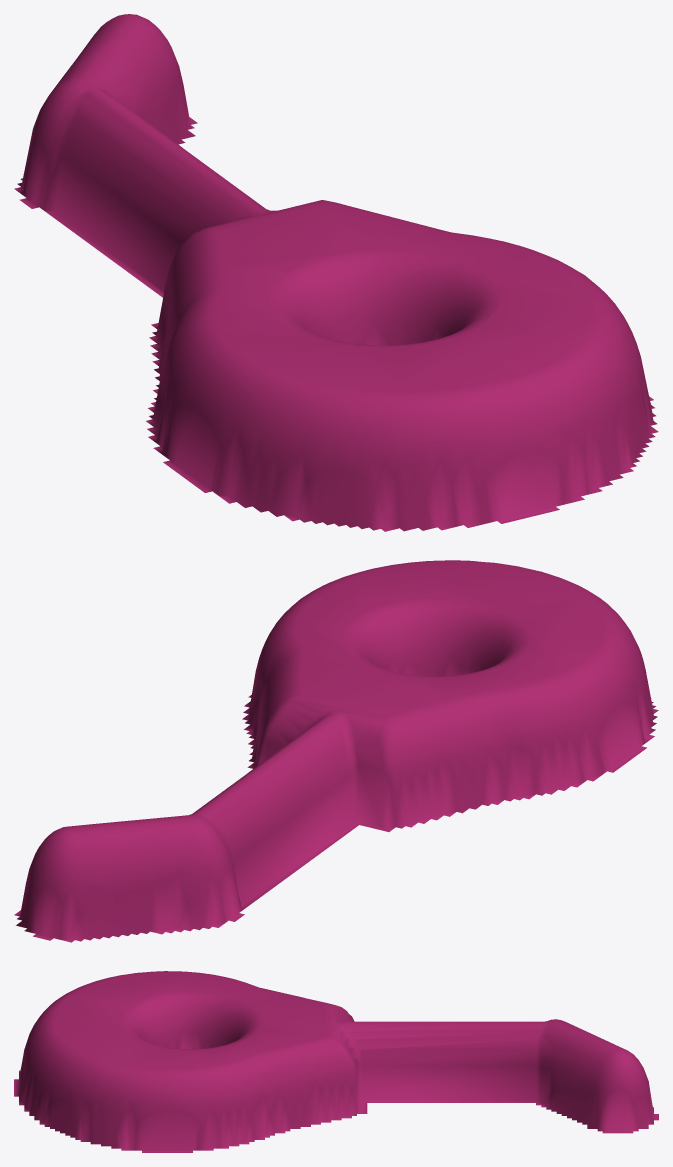
Rendered from decoration-bard.glb.
3 views of the same model, one above another, from view 1: azimuth 30°, elevation 25°; view 2: azimuth 150°, elevation 25°; view 3: azimuth 270°, elevation 25° (orthographic). The views are drawn at different scales.
Parts seen in each view (by area): view 1: decoration_bard; view 2: decoration_bard; view 3: decoration_bard.
Boxes of the visible parts, bbox=[...] form: decoration_bard: bbox=[14, 14, 658, 531]; decoration_bard: bbox=[14, 560, 658, 942]; decoration_bard: bbox=[14, 971, 658, 1152].
Size of the model in its own units: 0.108 by 0.026 by 0.2268.
